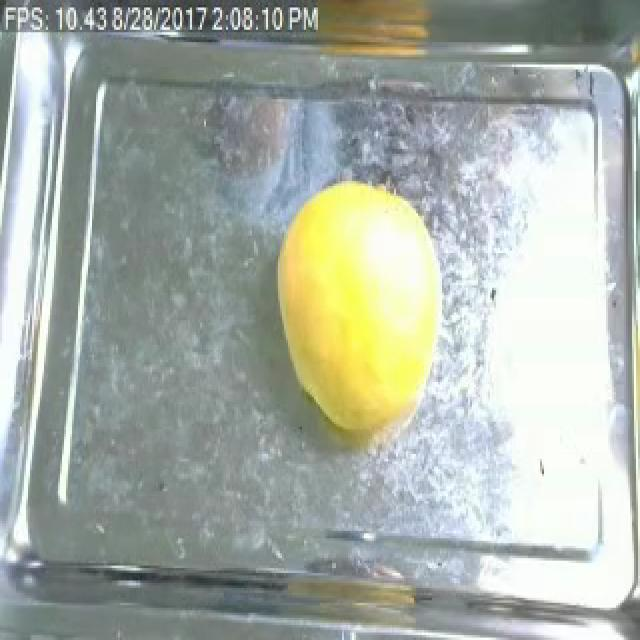fruit: (262, 174, 452, 452), (292, 0, 446, 79)
